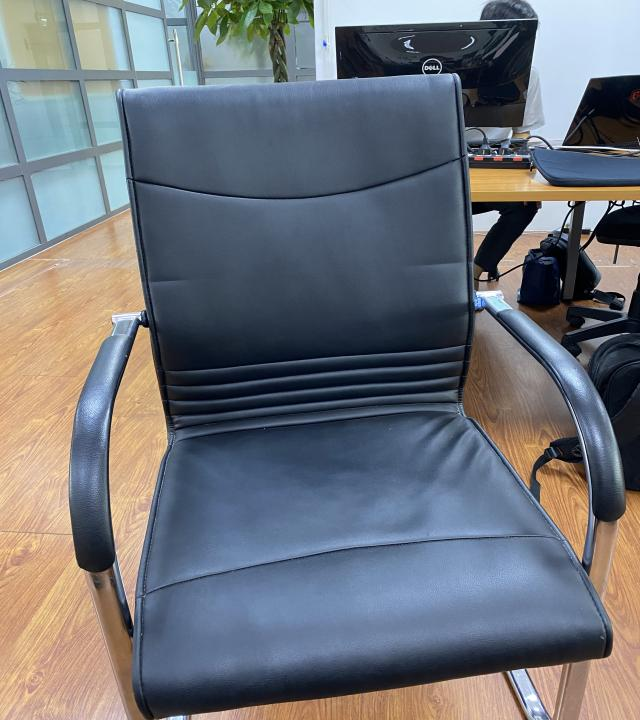SS_03: (64, 70, 627, 720)
